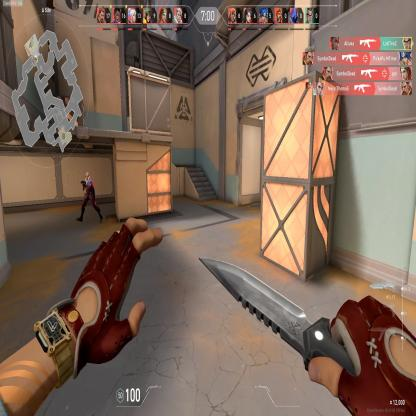enemy: (75, 170, 103, 225)
